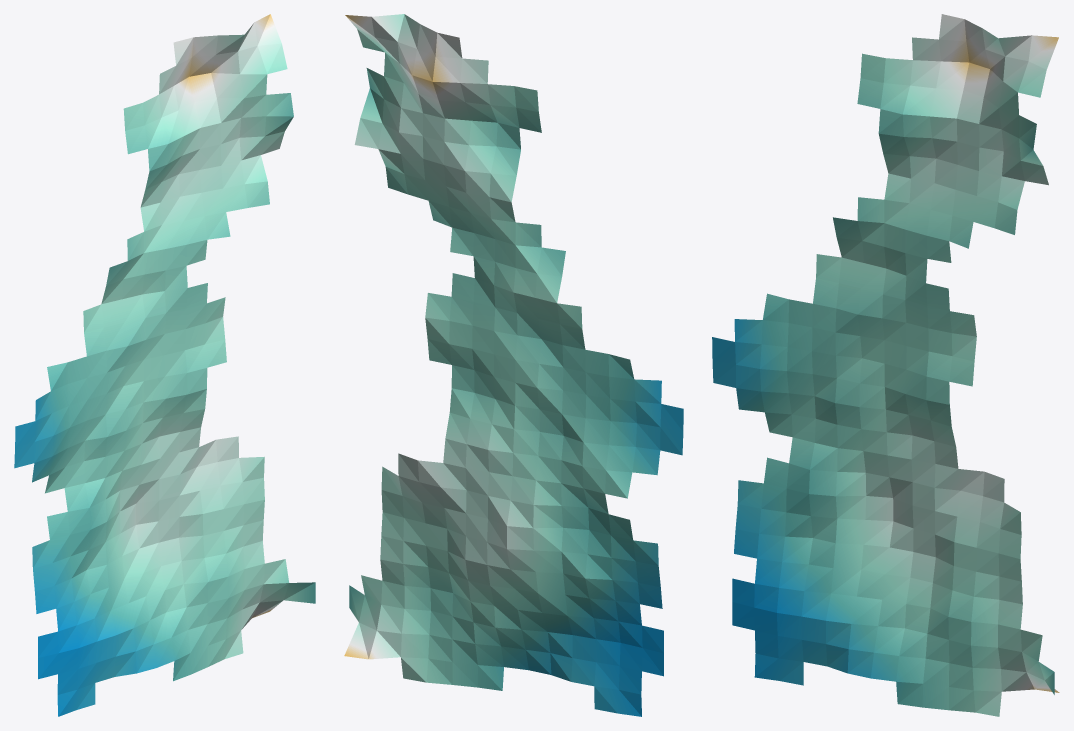
The model's file is soilmoisture1000m000.gltf.
3 renders of one model, left to right at view 1: azimuth 30°, elevation 25°; view 2: azimuth 150°, elevation 25°; view 3: azimuth 330°, elevation 25°, orthographic. The views are drawn at different scales.
Visible parts, largest first — view 1: Renderer Node; view 2: Renderer Node; view 3: Renderer Node.
Boxes of the visible parts, box(x1,y1,x2,y2) form: Renderer Node: box(14, 14, 315, 716); Renderer Node: box(344, 14, 683, 716); Renderer Node: box(712, 14, 1059, 716).
Size of the model in its own units: 14250 by 27550 by 2709.
Materials: 1 (1 with a texture image).
